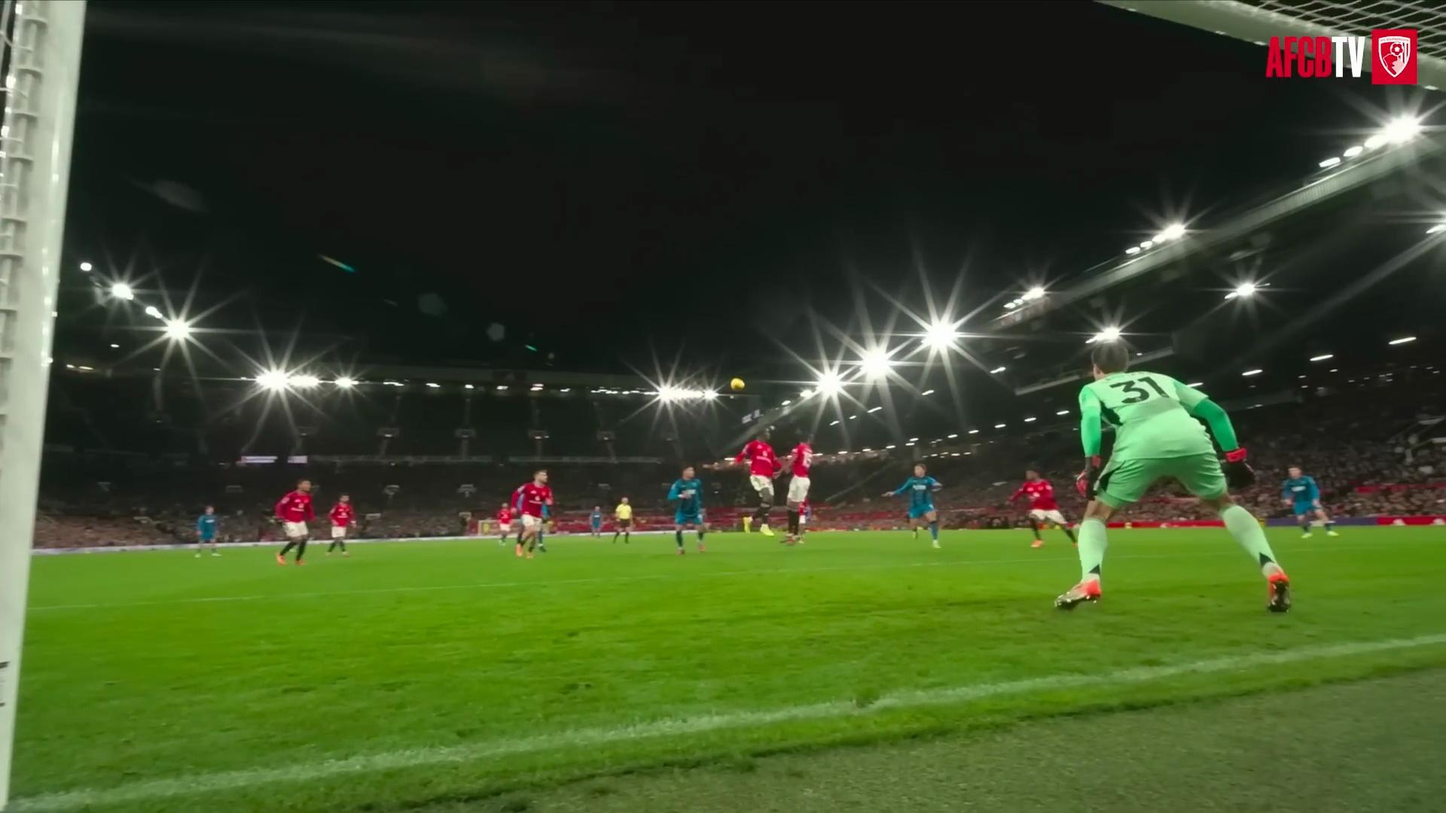football: (730, 377, 744, 391)
player: (1056, 343, 1290, 611), (1008, 469, 1076, 547), (735, 429, 782, 535), (884, 464, 941, 547), (1282, 466, 1338, 537), (514, 470, 552, 558), (668, 466, 706, 554), (275, 480, 314, 565), (786, 437, 814, 545), (326, 494, 355, 556), (196, 505, 219, 557), (496, 492, 515, 546), (612, 497, 632, 544), (535, 505, 552, 553), (797, 498, 811, 543), (590, 505, 603, 537)
